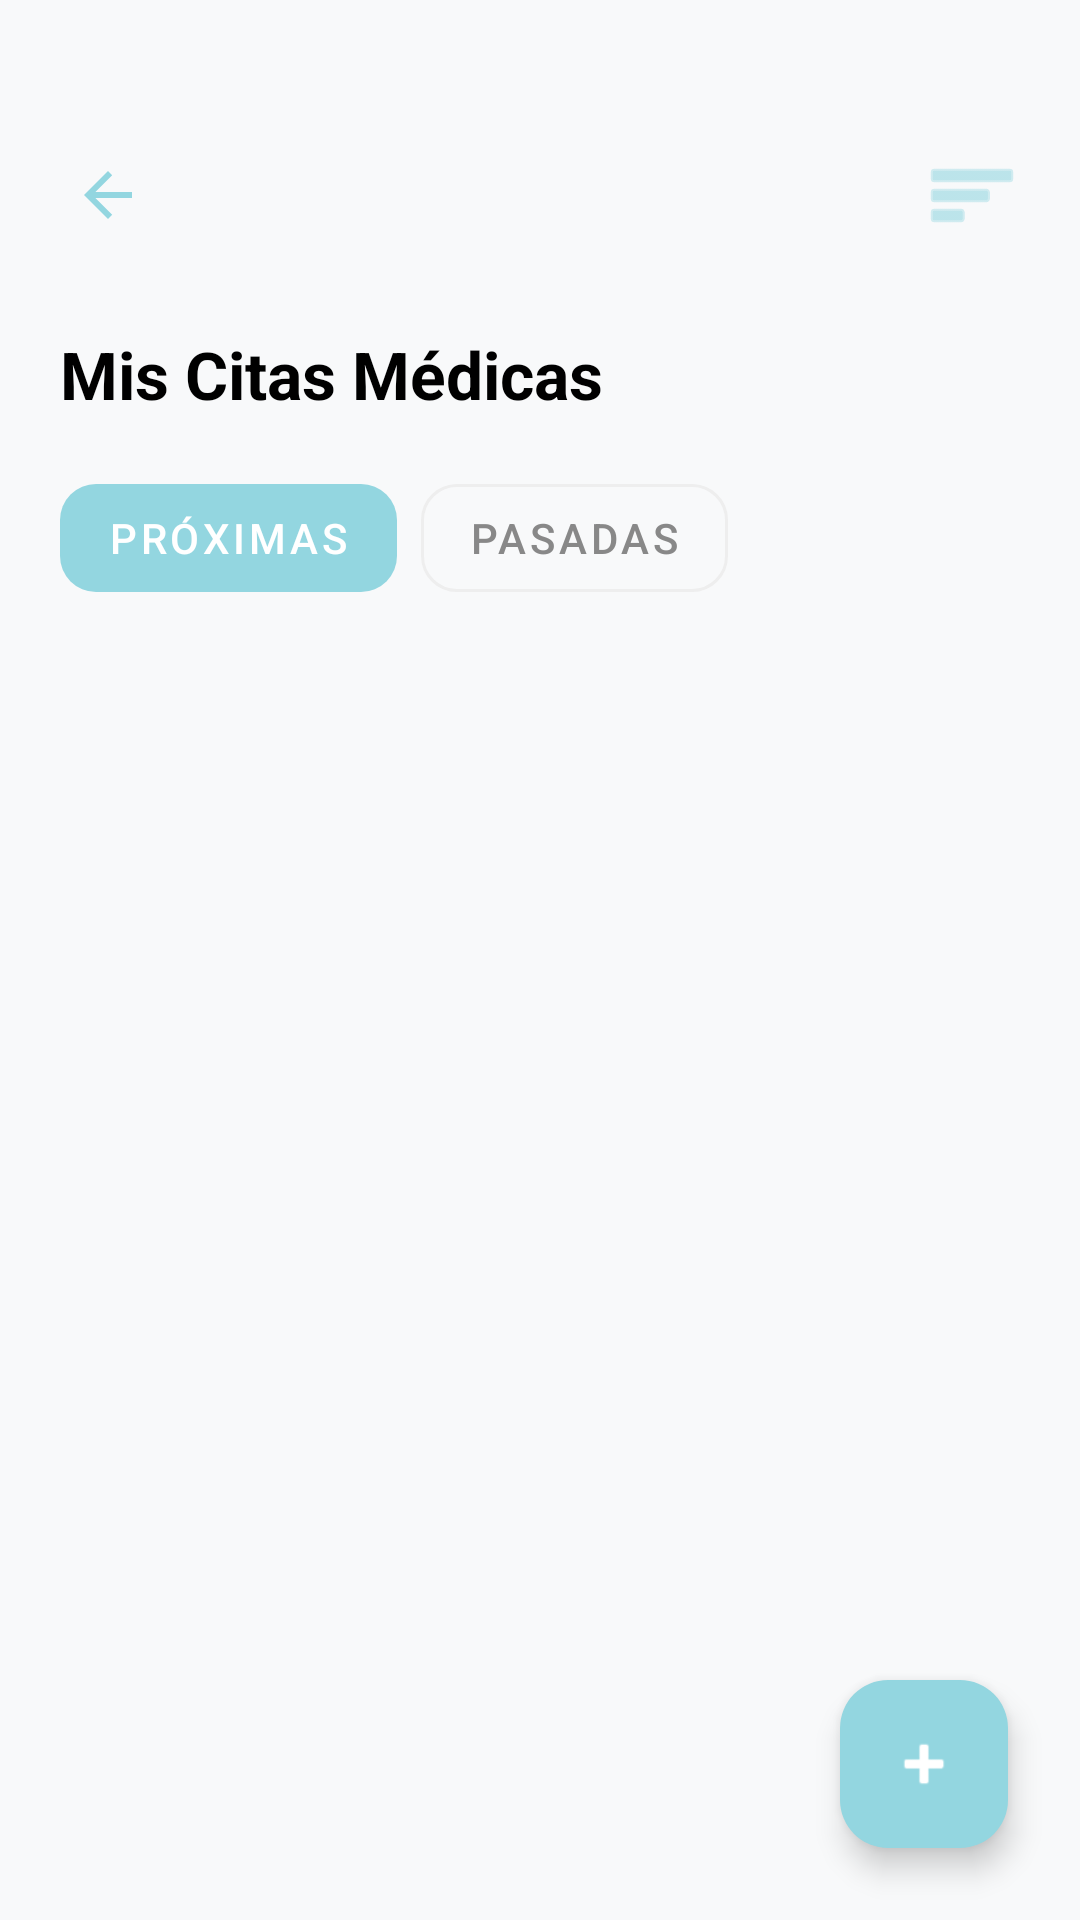

Point at icon controls on the screen. Image size 1080×1920, points as [x,y].
add: [924,1764]
Volver: [108,195]
